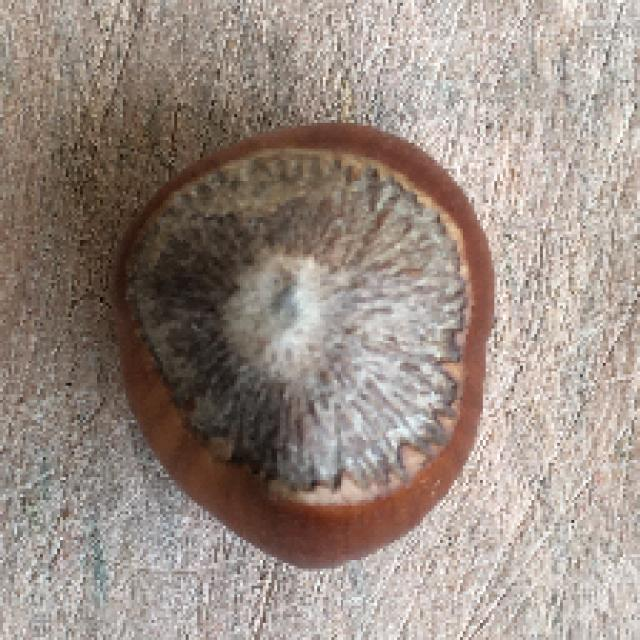qualityHazelnut: (110, 123, 489, 575)
